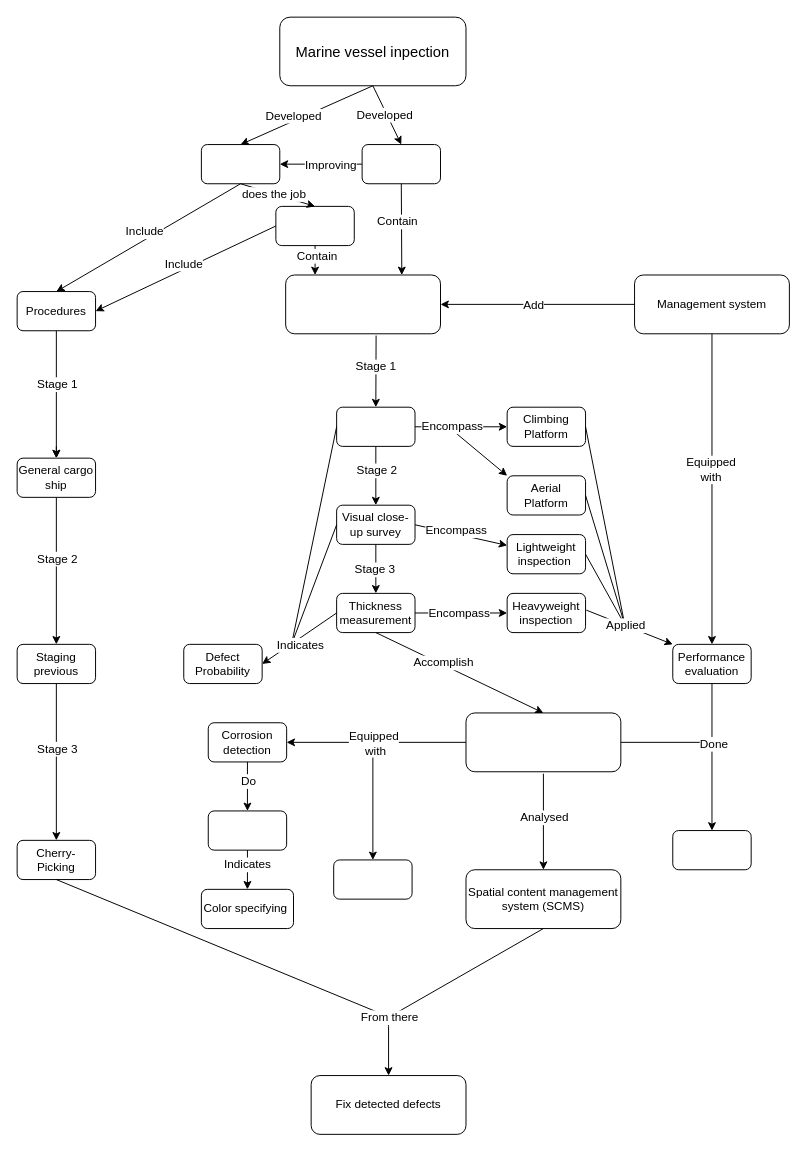
This 807x1152 diagram has some shape labels left out. The shapes that lost their labels are listed below. From the top down, each one's box as (x1, y1, x2, y2) in pixels, then its label:
(200, 144, 280, 184): Human application
(361, 144, 441, 184): Robot application
(275, 205, 354, 246): Surveyor
(285, 274, 441, 334): Reengineered inspection procedure
(336, 406, 415, 446): Fast visual
(465, 712, 621, 772): Defect detection
(207, 810, 287, 850): Roughness measurement
(672, 830, 751, 870): Field experience
(333, 859, 412, 899): Crack detection
